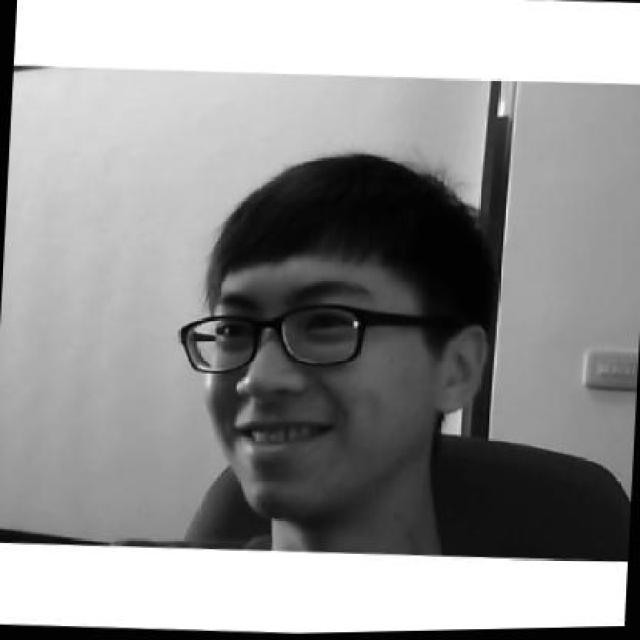attentif: (171, 143, 497, 534)
